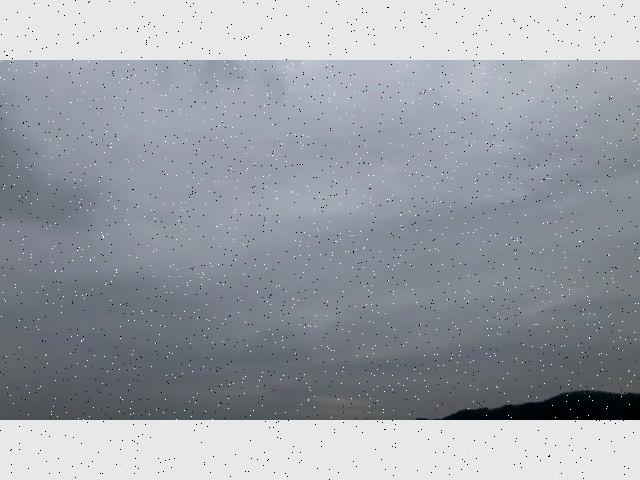Anti-Drone: (254, 213, 276, 227)
